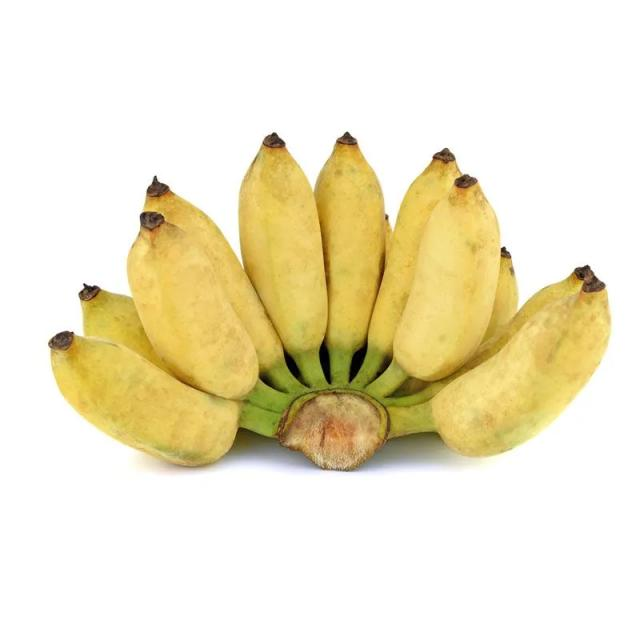chuoi: (49, 133, 610, 469)
